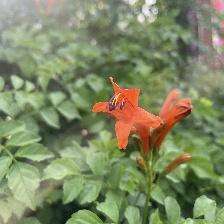honeysuckle: (93, 75, 166, 158), (151, 88, 196, 149)
